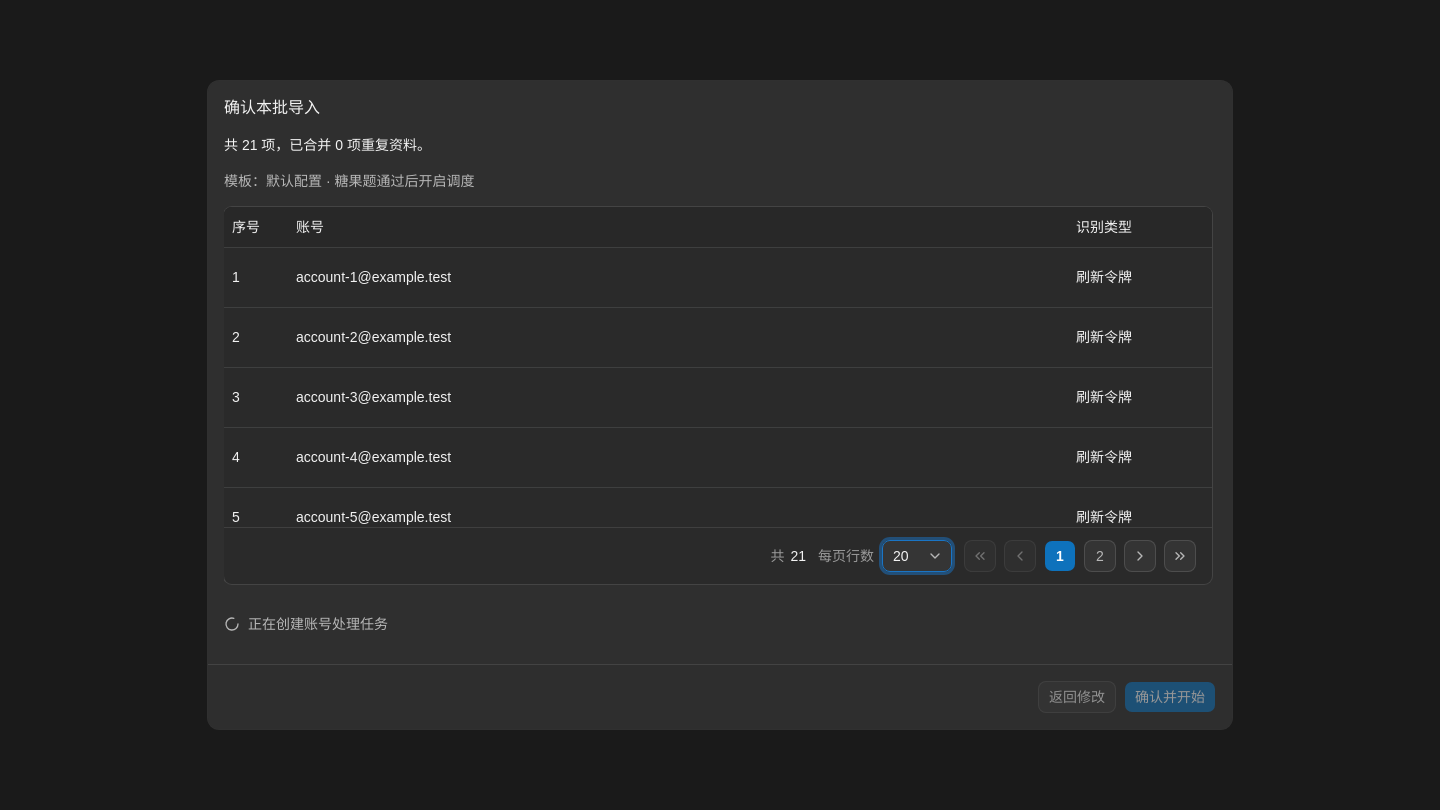
Test: 启动请求等待期间分页保持可读，重复确认和返回修改禁用且不显示伪造进度
Expected: the message "正在创建账号处理任务" is shown, x1=224 y1=616 x2=388 y2=632
Click the button named "转到下一页" at (1140, 556), box x1=1124 y1=540 x2=1156 y2=572
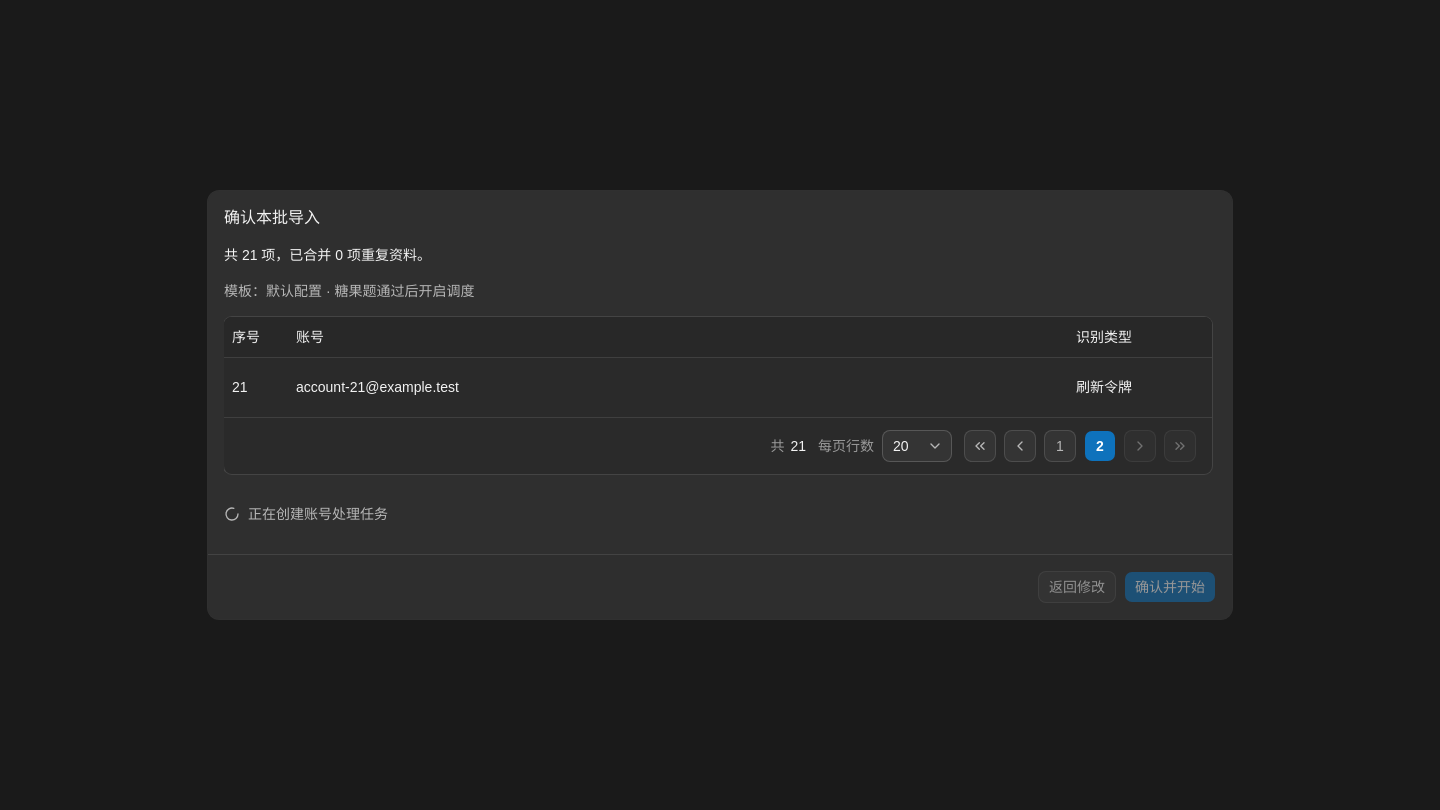
Expected: the button "确认并开始" is disabled, x1=1124 y1=571 x2=1216 y2=603
Now the text "account-21@example.test" is shown, box x1=288 y1=357 x2=1068 y2=417
